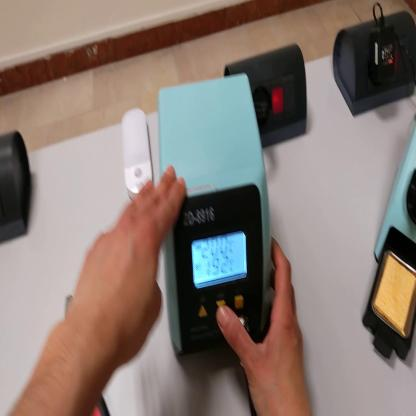hand: (71, 167, 187, 370), (217, 235, 310, 416)
pliers: (61, 298, 111, 416)
socket: (224, 42, 312, 145), (334, 12, 416, 118)
welder base: (362, 127, 416, 364)
welder station: (161, 77, 274, 362)
